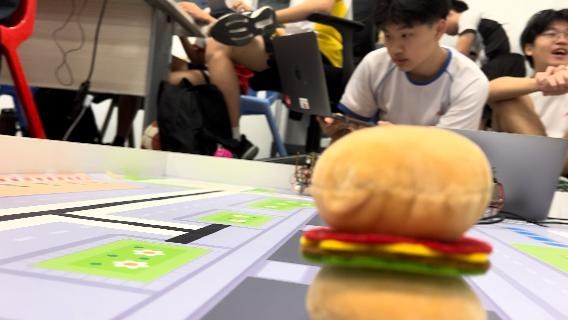burger: (300, 124, 500, 314)
